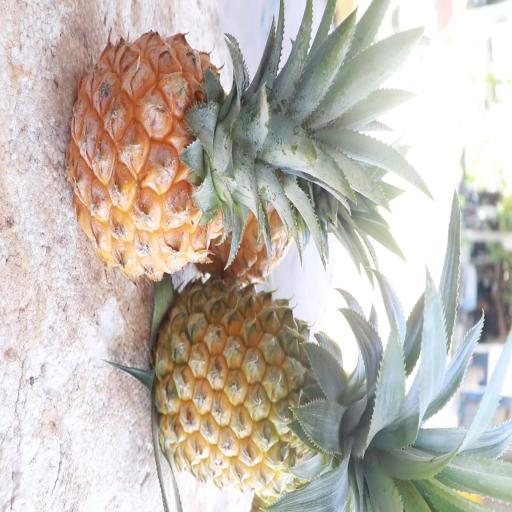Pineapple - v8 v1: (65, 23, 334, 284), (151, 277, 396, 499)
